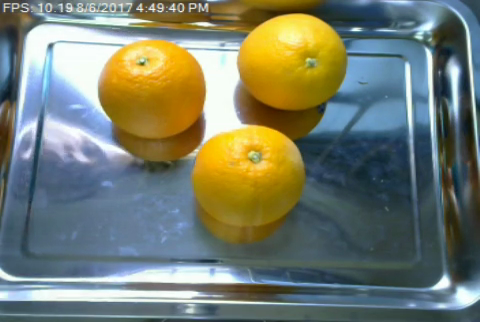Orange: (191, 125, 305, 227), (236, 11, 346, 107), (98, 40, 205, 137)
